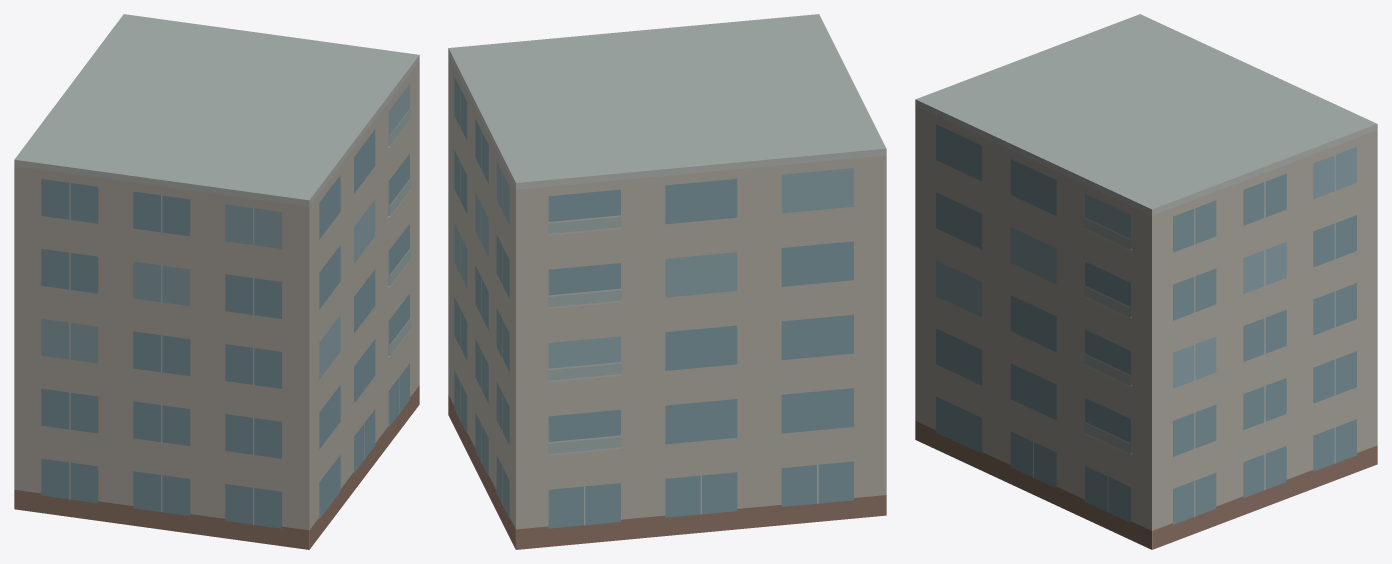
The model's file is survey-upis-32833250.glb.
The picture shows the model from 3 angles, left to right: view 1: azimuth 30°, elevation 25°; view 2: azimuth 150°, elevation 25°; view 3: azimuth 270°, elevation 25°; orthographic projection. The views are drawn at different scales.
Parts seen in each view (by area): view 1: survey-upis-32833250.tmp; view 2: survey-upis-32833250.tmp; view 3: survey-upis-32833250.tmp.
Part boxes in pixels (left/top/right/bottom): survey-upis-32833250.tmp: left=14, top=14, right=419, bottom=549; survey-upis-32833250.tmp: left=448, top=14, right=886, bottom=549; survey-upis-32833250.tmp: left=915, top=14, right=1377, bottom=549.
Bounding box in the file's own units: 16.39 × 13.3 × 16.37.
